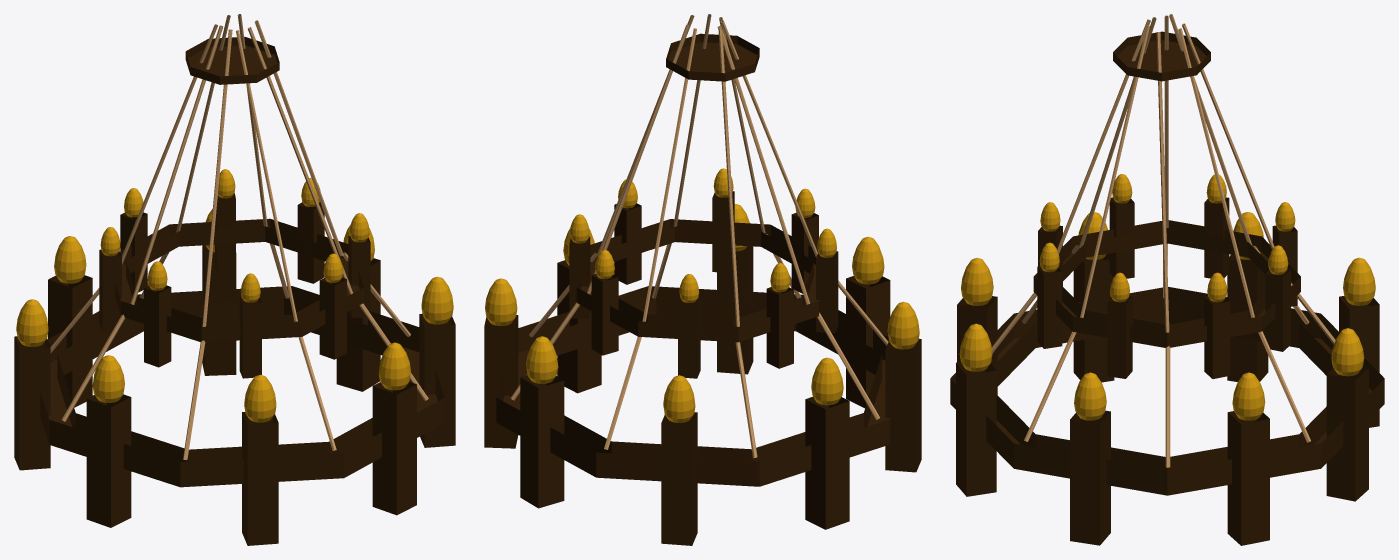
Rendered from Lampara_Escenario3.fbx.
3 renders of one model, left to right at view 1: azimuth 30°, elevation 25°; view 2: azimuth 150°, elevation 25°; view 3: azimuth 270°, elevation 25°, orthographic.
Visible parts, largest first — view 1: Sphere008; view 2: Sphere008; view 3: Sphere008.
Part boxes in pixels (<box>): Sphere008: <box>14,14,455,545</box>; Sphere008: <box>484,14,921,545</box>; Sphere008: <box>950,14,1384,545</box>.
Bounding box in the file's own units: 424 × 467 × 424.
